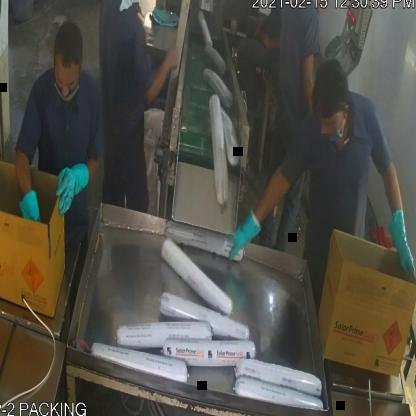glove: (53, 152, 98, 218), (388, 184, 416, 286), (228, 209, 270, 270)
no_glove: (141, 36, 180, 108), (299, 45, 316, 119), (257, 22, 284, 58)
